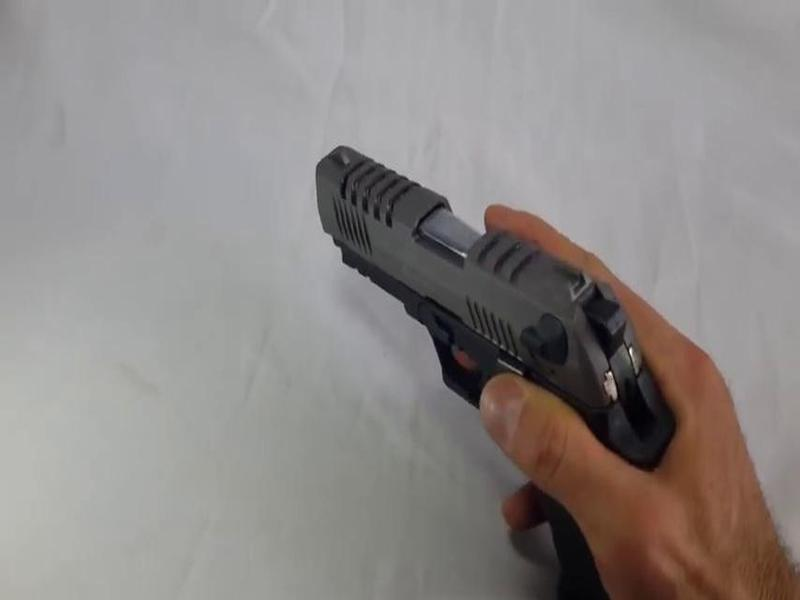Pistola: (226, 106, 707, 553)
